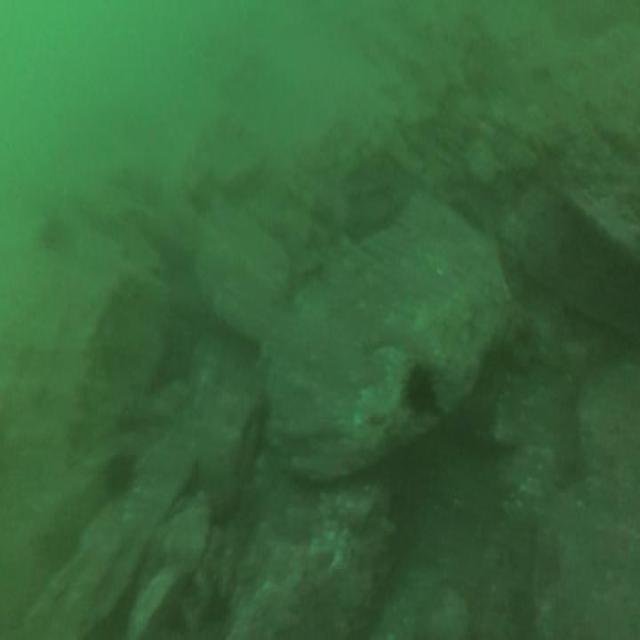echinus: (406, 370, 436, 414), (104, 454, 133, 496)
